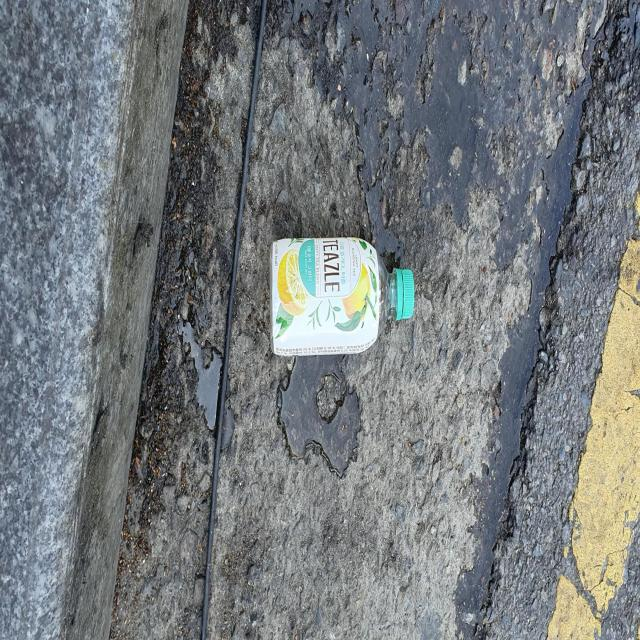plastic: (270, 236, 415, 355)
